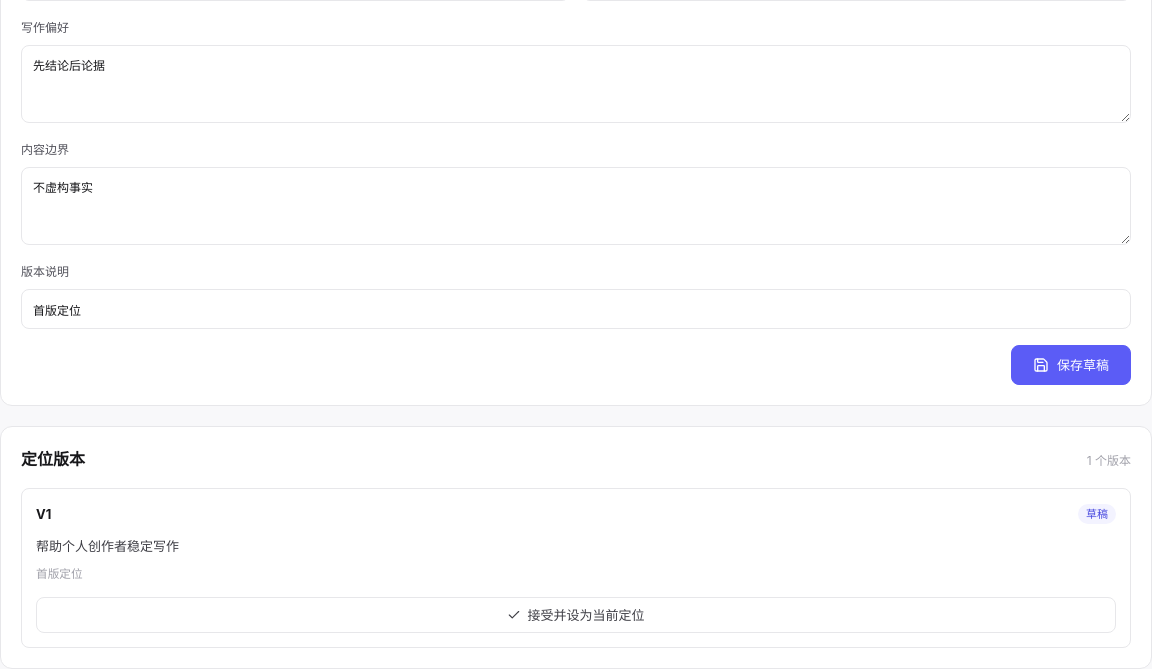
Test: AccountWorkspace › shows candidate acceptance as an explicit action and refreshes the active version
The width and height of the screenshot is (1152, 669).
(page scrolled)
Step 1. Click the button "接受并设为当前定位" → x=576, y=615, box [36, 597, 1116, 633]
(page scrolled)
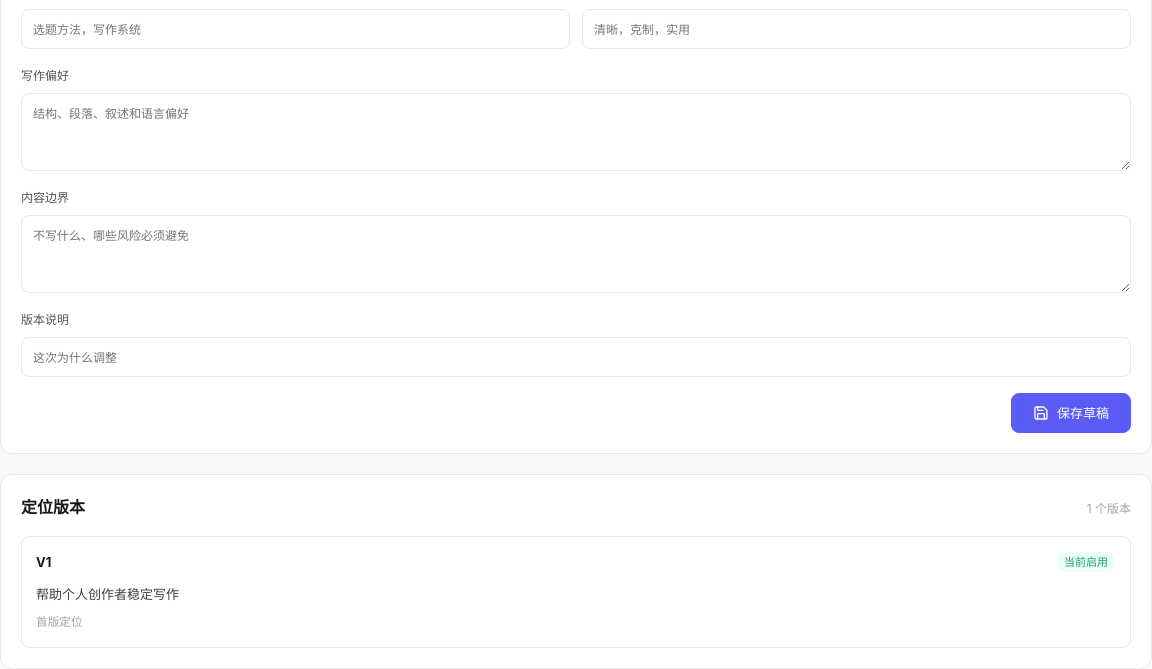
Expected: the text "当前启用" is shown, [1056, 552, 1116, 572]
